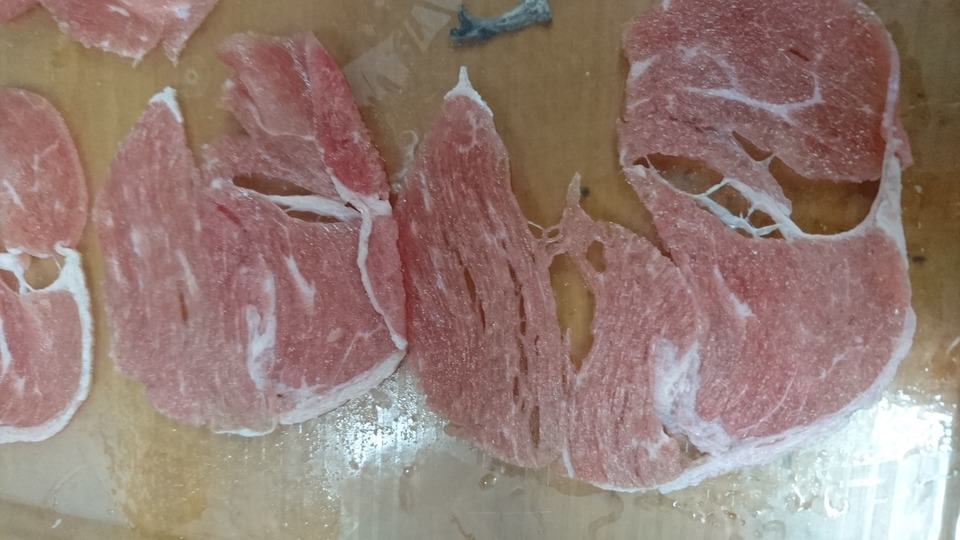restructured meat: (393, 11, 922, 472), (103, 82, 403, 421), (1, 84, 93, 451)
